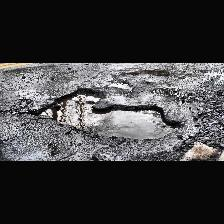pothole: (29, 86, 181, 140), (127, 69, 169, 77), (108, 81, 134, 91)
